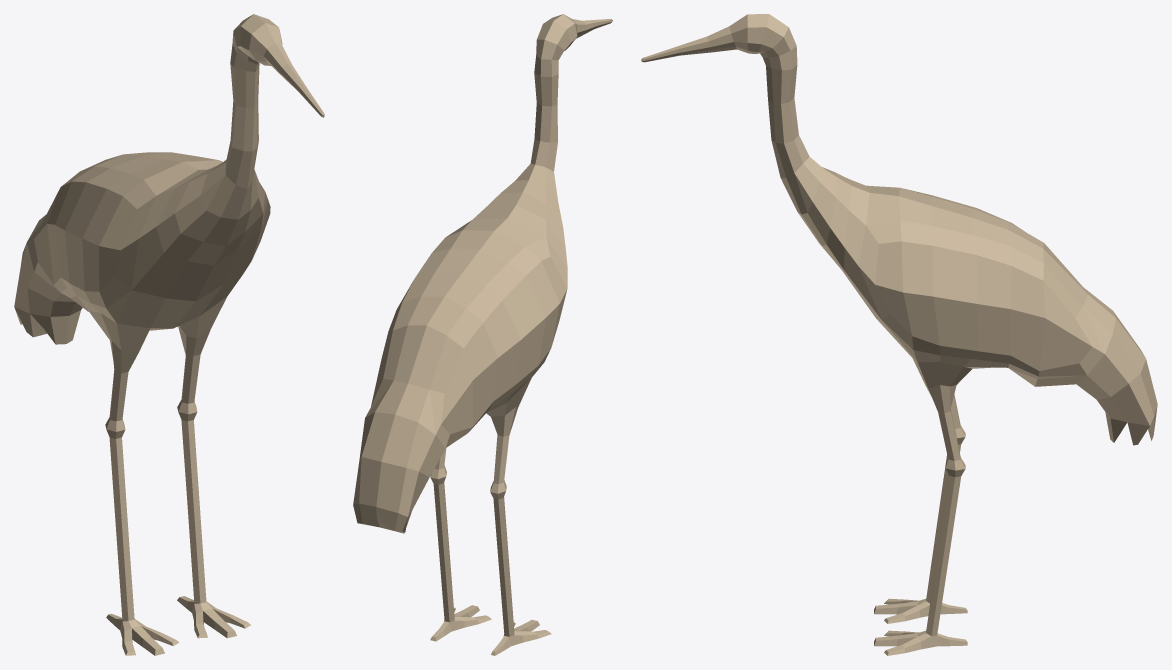
The model's file is bifang.glb.
3 renders of one model, left to right at view 1: azimuth 30°, elevation 25°; view 2: azimuth 150°, elevation 25°; view 3: azimuth 270°, elevation 25°, orthographic. The views are drawn at different scales.
Parts seen in each view (by area): view 1: SandhillCrane_mesh; view 2: SandhillCrane_mesh; view 3: SandhillCrane_mesh.
Part boxes in pixels (box(x1,y1,x2,y2)): SandhillCrane_mesh: box(14, 14, 324, 655); SandhillCrane_mesh: box(353, 14, 612, 655); SandhillCrane_mesh: box(641, 14, 1157, 655).
Bounding box in the file's own units: 3.1 × 12.28 × 9.36.
